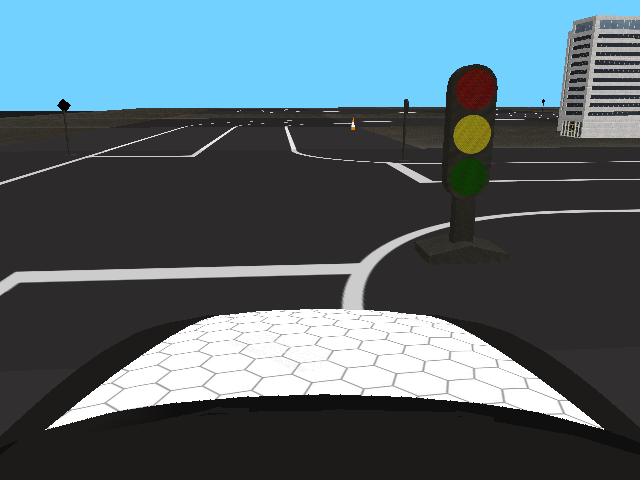yellow_light: (442, 64, 498, 199)
